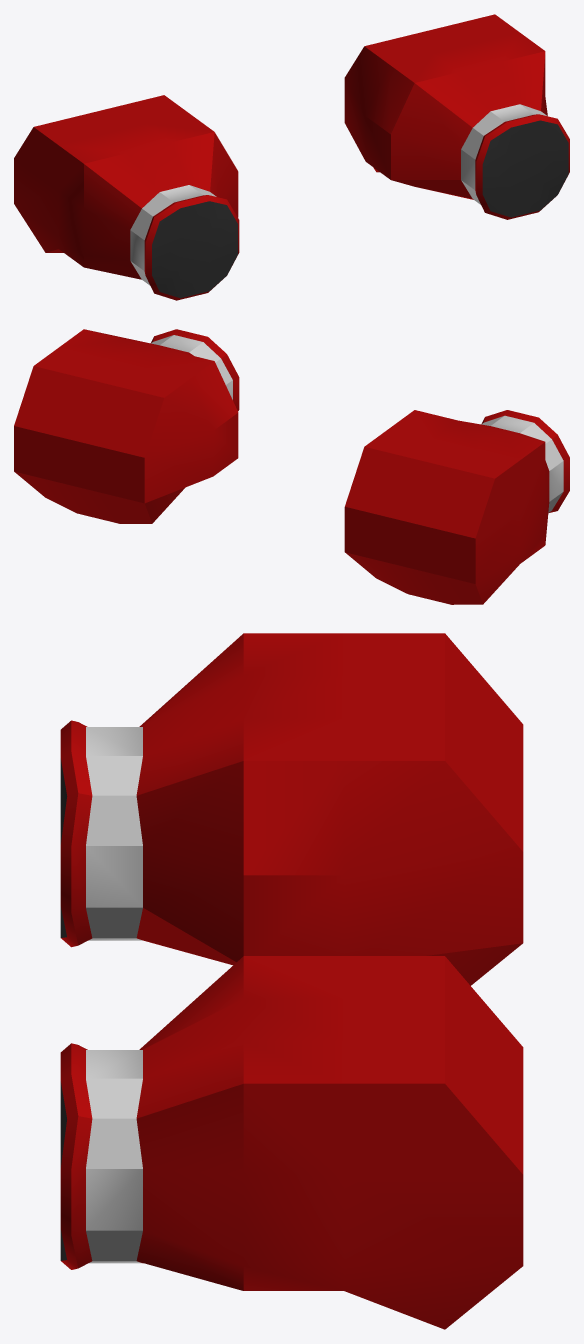
File: gloves.fbx
The picture shows the model from 3 angles, top to bottom: view 1: azimuth 30°, elevation 25°; view 2: azimuth 150°, elevation 25°; view 3: azimuth 270°, elevation 25°; orthographic projection. The views are drawn at different scales.
Visible parts, largest first — view 1: left_glove, right_glove; view 2: right_glove, left_glove; view 3: right_glove, left_glove.
Boxes of the visible parts, left/top/right/bottom form: left_glove: left=14, top=95, right=239, bottom=300; right_glove: left=344, top=14, right=569, bottom=219; right_glove: left=14, top=329, right=239, bottom=523; left_glove: left=344, top=410, right=569, bottom=604; right_glove: left=60, top=956, right=523, bottom=1329; left_glove: left=60, top=633, right=523, bottom=985.
Bounding box in the file's own units: 706 × 200 × 306.
